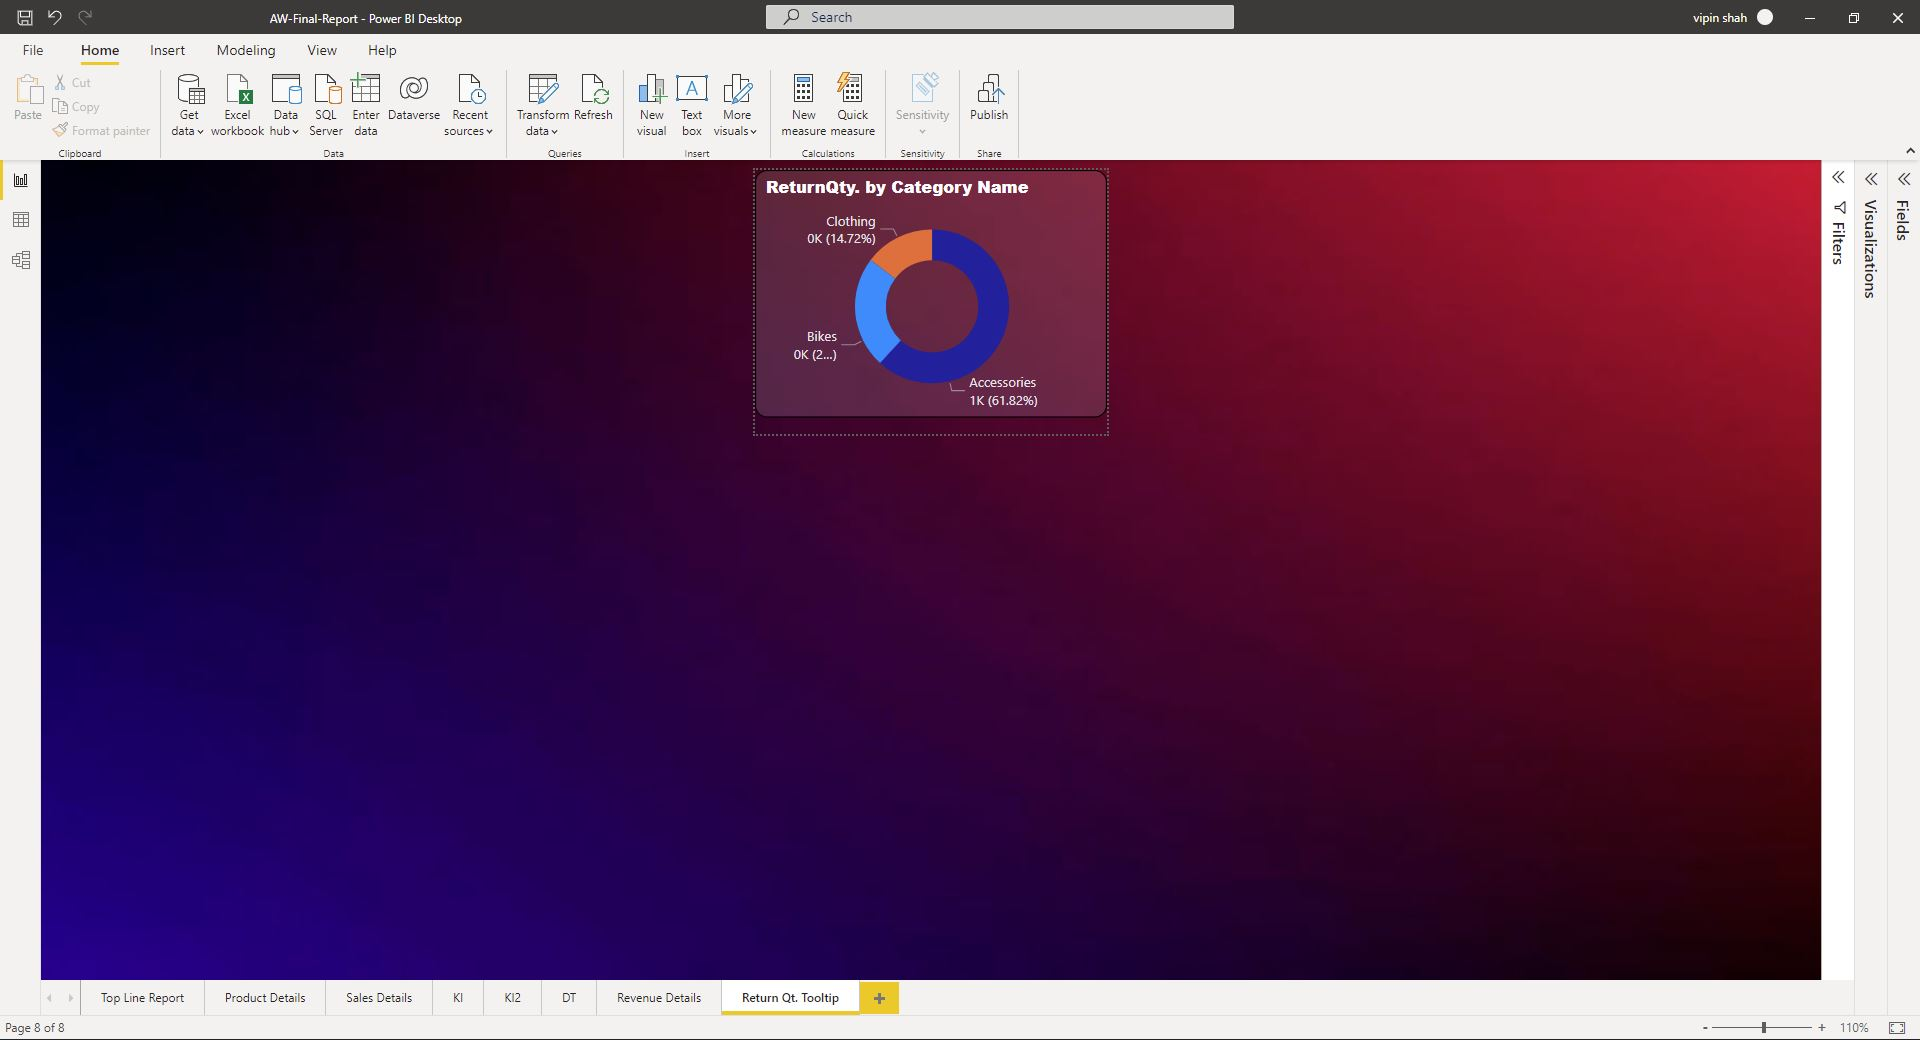

This screenshot's page, from the dashboard's own definition file:
{"tool":"powerbi","page":{"name":"Return Qt. Tooltip","canvas":[320,240],"ordinal":7},"visuals":[{"type":"donutChart","title":"ReturnQty. by Category Name","fields":{"Category":["d-Product-Categories.Category Name"],"Y":["Sum(f-Returns.ReturnQuantity)"]},"box":[0,0,320,225.5],"z":0}]}

Visuals, with their boxes on the page's 320x240 design canvas (x1, y1, x2, y2). These are canvas units, not pixel positions in the 1920x1040 screenshot, which may show the page scaled, cropped or inside an application window:
"ReturnQty. by Category Name" donutChart: select_region(0, 0, 320, 226)
